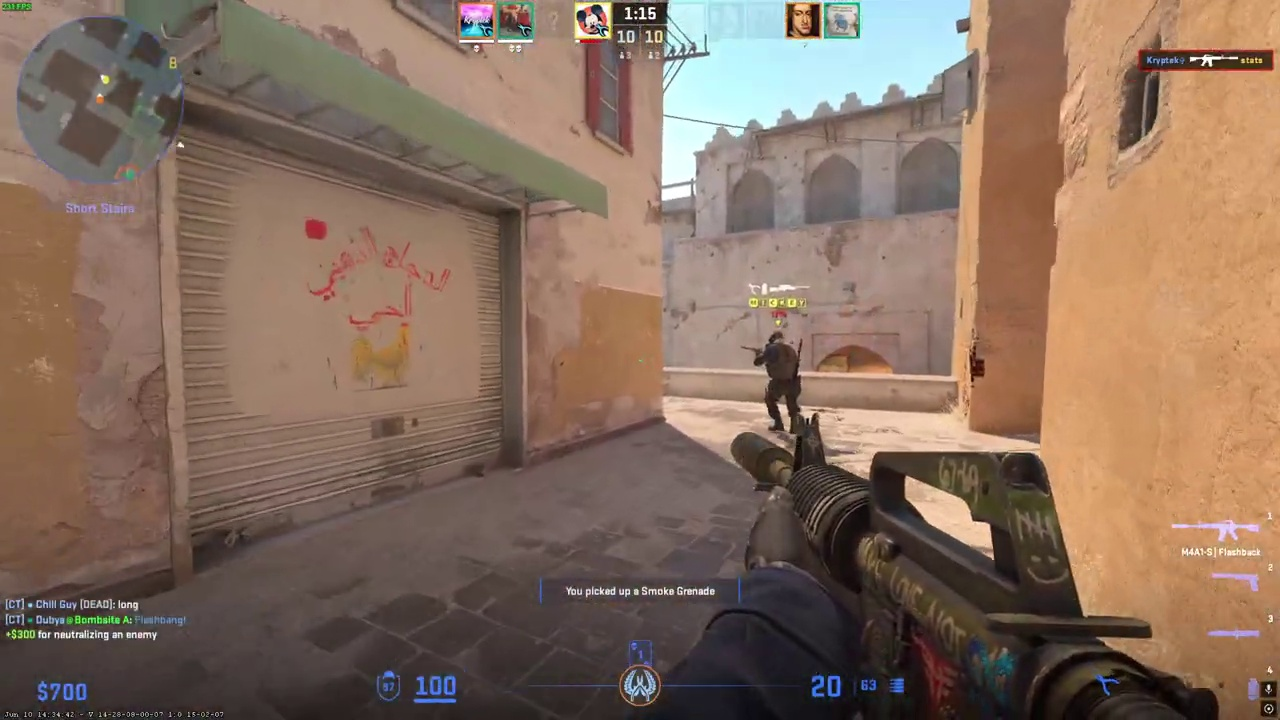CT: (759, 331, 801, 433)
